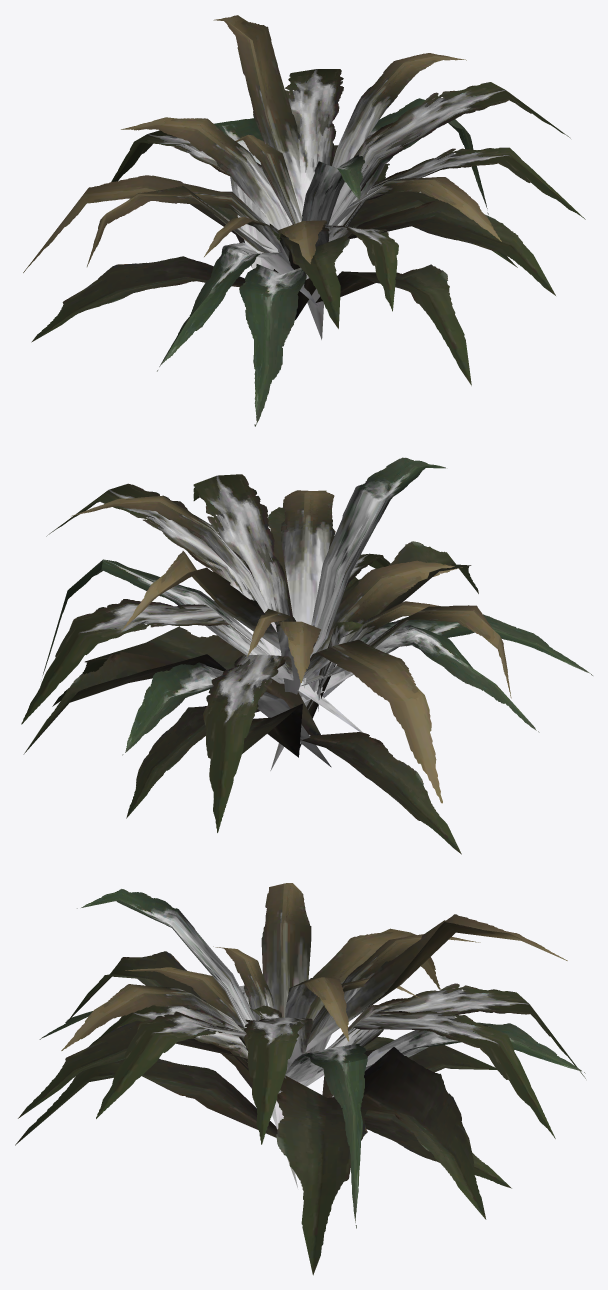
Rendered from map_114_shu_12.fbx.
3 renders of one model, top to bottom at view 1: azimuth 30°, elevation 25°; view 2: azimuth 150°, elevation 25°; view 3: azimuth 270°, elevation 25°, orthographic. The views are drawn at different scales.
Visible parts, largest first — view 1: map_114_shu_12; view 2: map_114_shu_12; view 3: map_114_shu_12.
Part boxes in pixels (left/top/right/bottom): map_114_shu_12: left=23, top=15, right=585, bottom=426; map_114_shu_12: left=21, top=457, right=592, bottom=854; map_114_shu_12: left=15, top=883, right=585, bottom=1275.
Bounding box in the file's own units: 0.8583 × 0.4464 × 0.8473.
